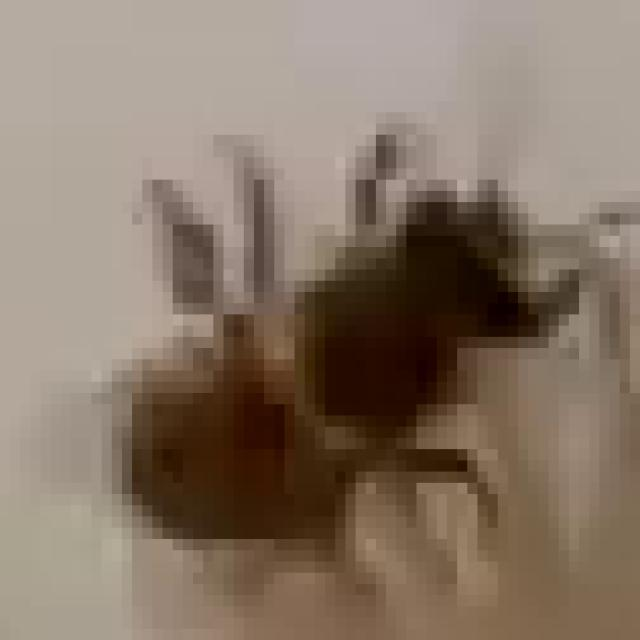honeybee: (137, 175, 542, 548)
